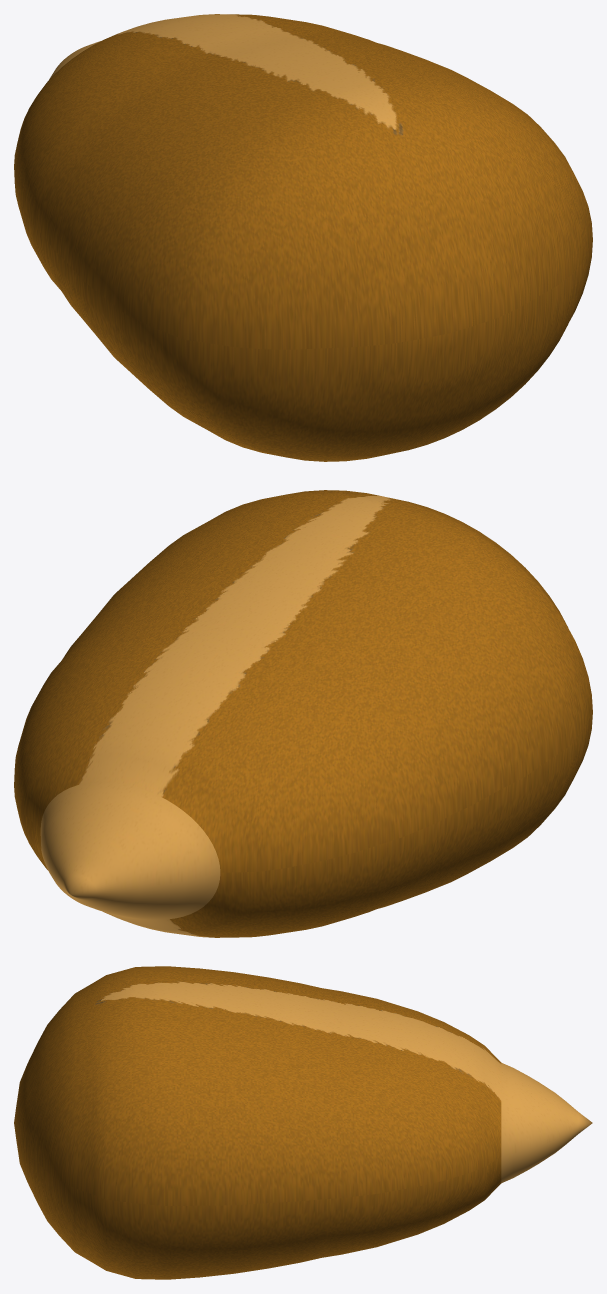
Rendered from seed.FBX.
3 views of the same model, one above another, from view 1: azimuth 30°, elevation 25°; view 2: azimuth 150°, elevation 25°; view 3: azimuth 270°, elevation 25° (orthographic). The views are drawn at different scales.
Parts seen in each view (by area): view 1: Sphere016; view 2: Sphere016; view 3: Sphere016.
Boxes of the visible parts, x1,y1,x2,y2 form: Sphere016: (14,14,592,461); Sphere016: (14,490,592,937); Sphere016: (14,966,592,1279).
Bounding box in the file's own units: 12.28 × 9.21 × 18.07.
1 material, 1 textured.
